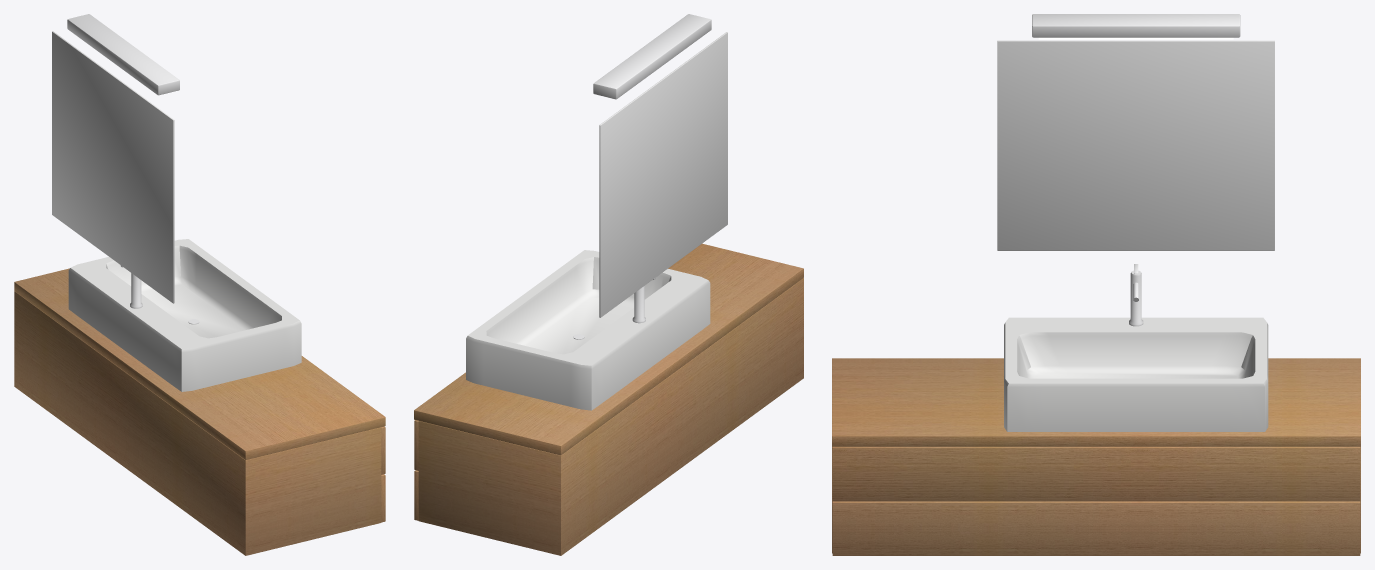
The model's file is rec82o5kQMbqWpK3Z.glb.
The picture shows the model from 3 angles, left to right: view 1: azimuth 30°, elevation 25°; view 2: azimuth 150°, elevation 25°; view 3: azimuth 270°, elevation 25°; orthographic projection. The views are drawn at different scales.
Parts seen in each view (by area): view 1: Meuble_Vasque_Corps; view 2: Meuble_Vasque_Corps; view 3: Meuble_Vasque_Corps.
Boxes of the visible parts, left/top/right/bottom form: Meuble_Vasque_Corps: left=14, top=14, right=385, bottom=555; Meuble_Vasque_Corps: left=414, top=14, right=803, bottom=555; Meuble_Vasque_Corps: left=832, top=14, right=1360, bottom=555.
Bounding box in the file's own units: 0.56 × 1.55 × 1.6.
Materials: 5 (1 with a texture image).
